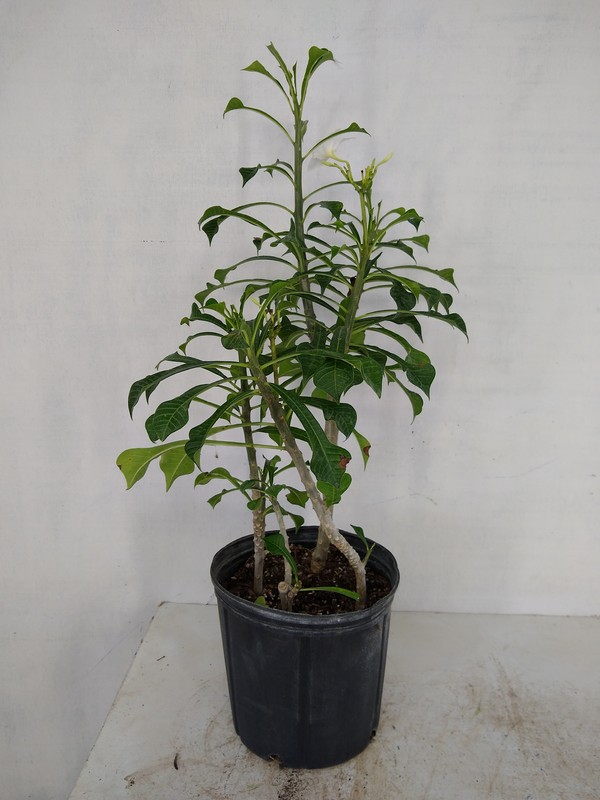plant: (114, 38, 474, 604)
pot: (208, 523, 401, 771)
